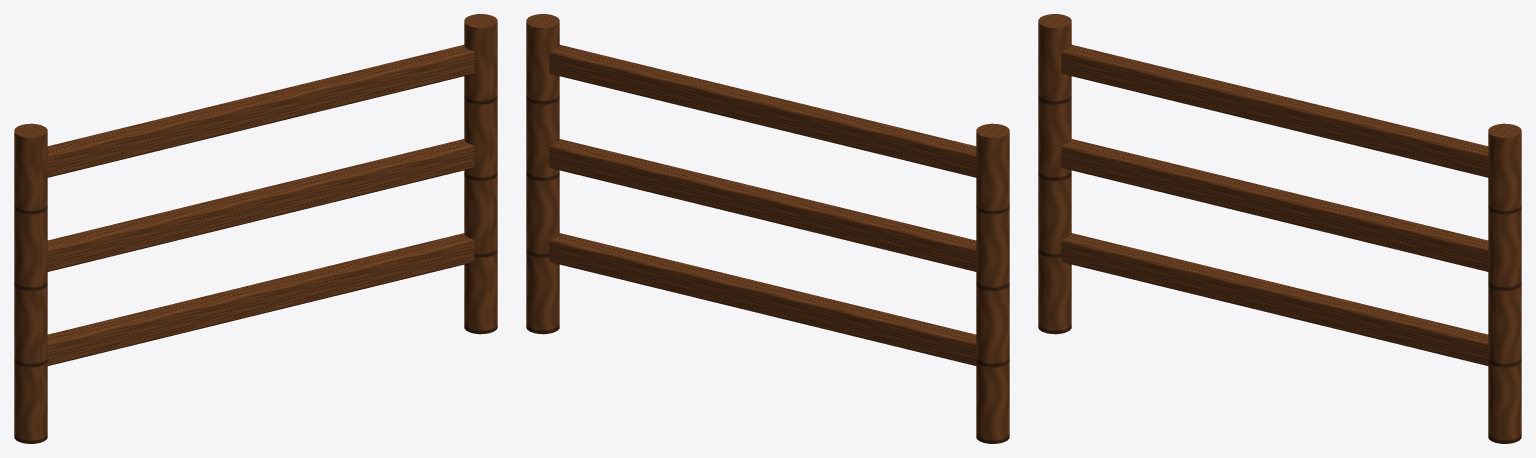
File: creature-husbandry-and-transport-pen-rail-2m-eccd151e__23988.glb
3 views of the same model, side by side, from view 1: azimuth 30°, elevation 25°; view 2: azimuth 150°, elevation 25°; view 3: azimuth 330°, elevation 25° (orthographic).
Parts seen in each view (by area): view 1: pen-rail-2m; view 2: pen-rail-2m; view 3: pen-rail-2m.
Boxes of the visible parts, box(x1,y1,x2,y2) form: pen-rail-2m: box(14, 14, 497, 443); pen-rail-2m: box(526, 14, 1009, 443); pen-rail-2m: box(1038, 14, 1521, 443).
Bounding box in the file's own units: 2.13 × 1.3 × 0.13.
Materials: 1 (1 with a texture image).
